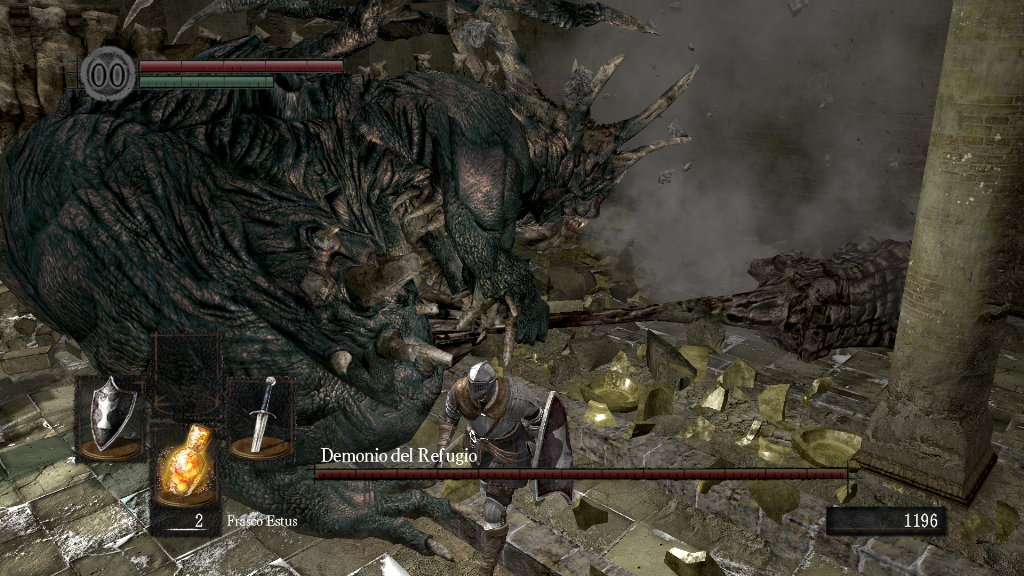asylumDemon: (1, 1, 700, 556)
bossHP: (314, 469, 847, 479)
health: (138, 58, 343, 71)
humanity: (80, 45, 136, 102)
player: (434, 358, 576, 576)
souls: (825, 506, 945, 536)
stamina: (138, 74, 274, 88)
